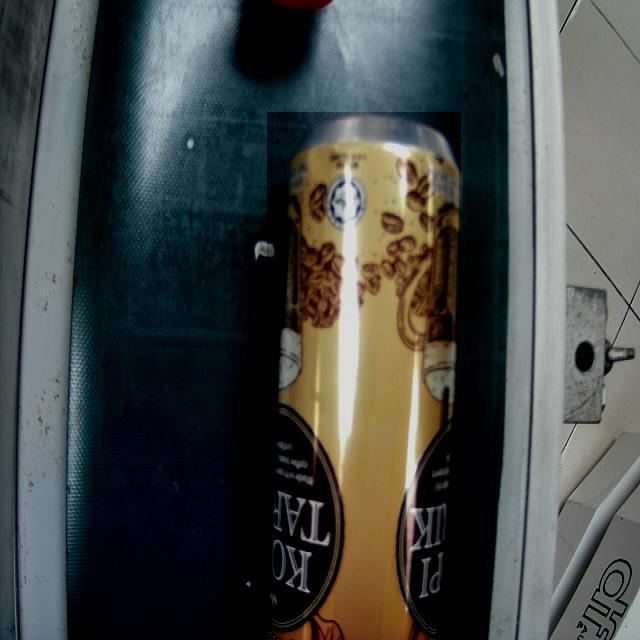can: (267, 112, 461, 640)
